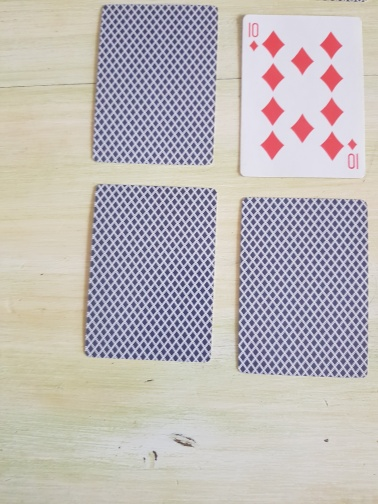ten: (237, 14, 367, 179)
